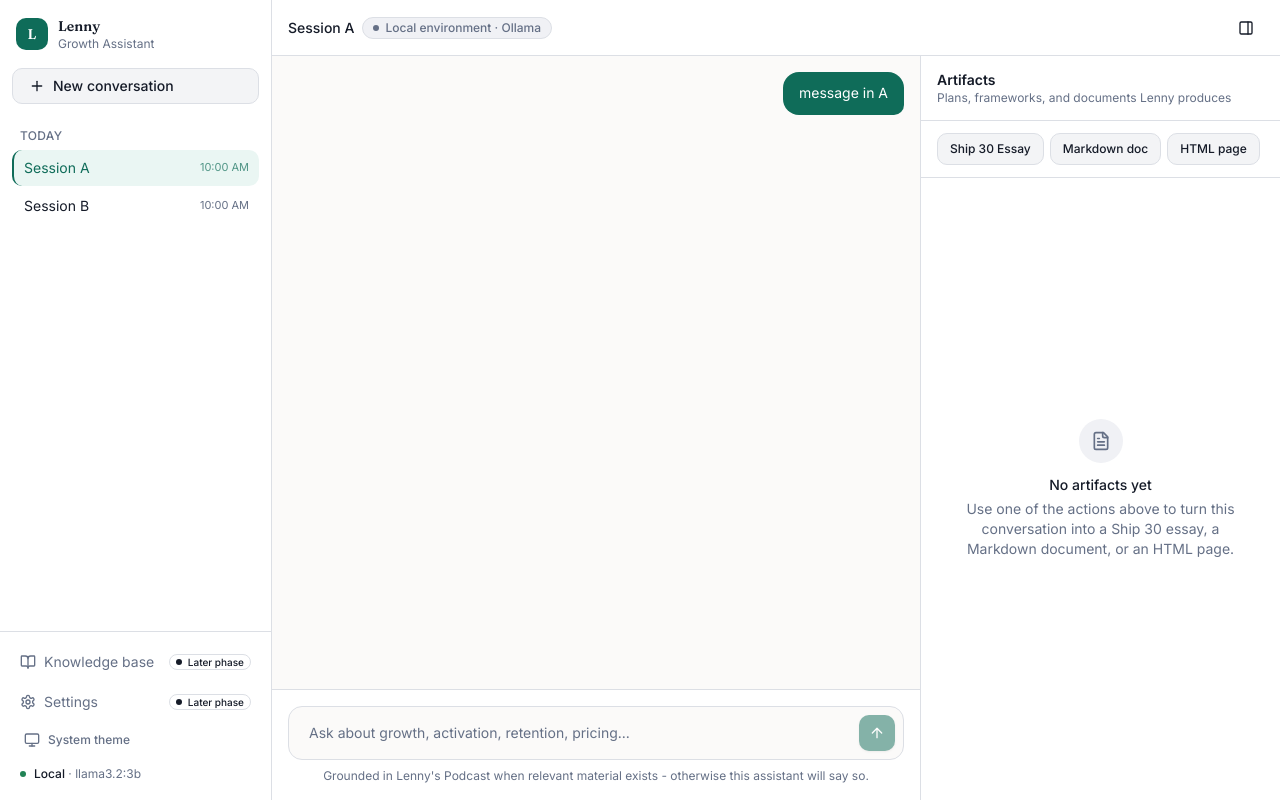
composer and message flow › keeps messages isolated when switching between two sessions
The image size is (1280, 800).
Expected: the text "Session A" below "Today" is shown, [24,159,90,176]
Expected: the text "message in A" is shown, [783,72,904,115]
Click the text "Session B".
click(57, 206)  # box [24,197,89,214]
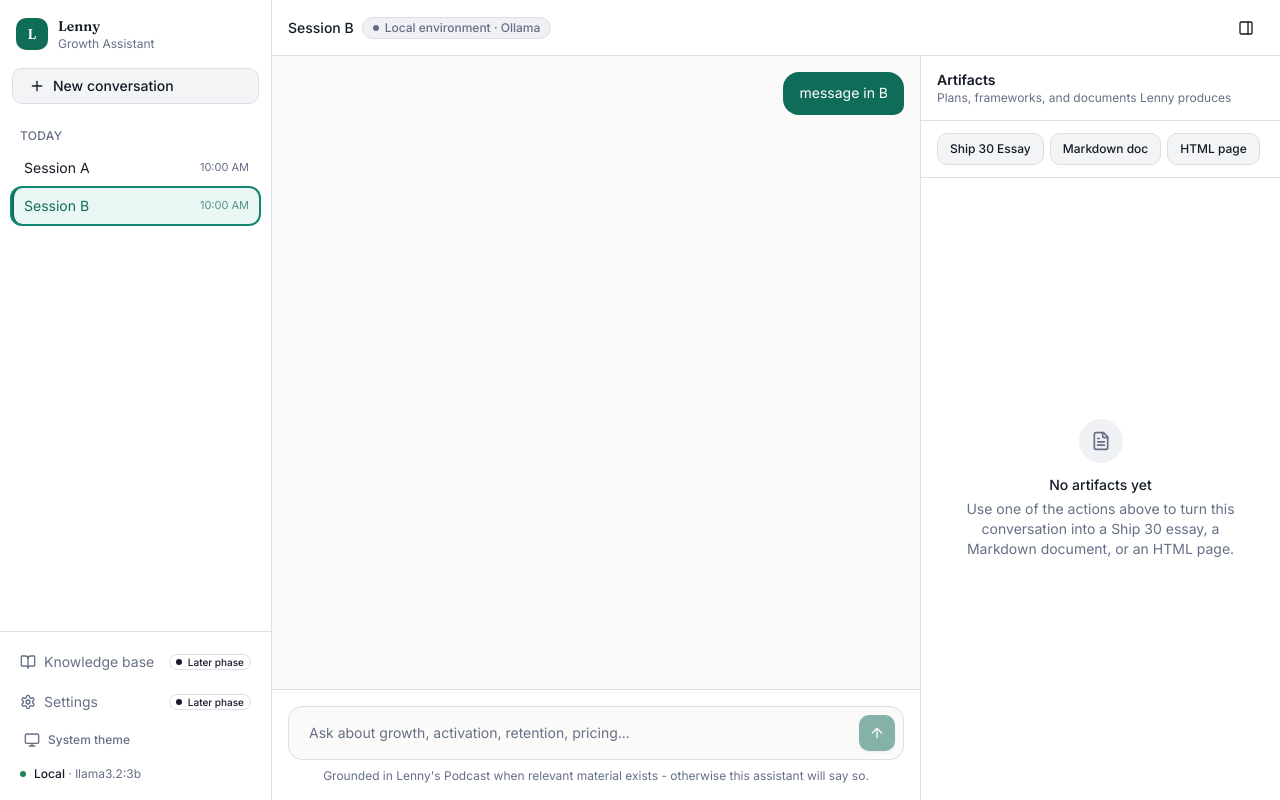
Expected: the text "message in B" is shown, [784,72,904,115]
Expected: the text "message in A" is gone
